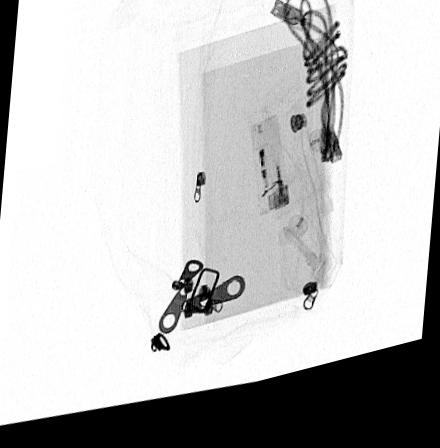Lighter: (249, 129, 290, 230)
